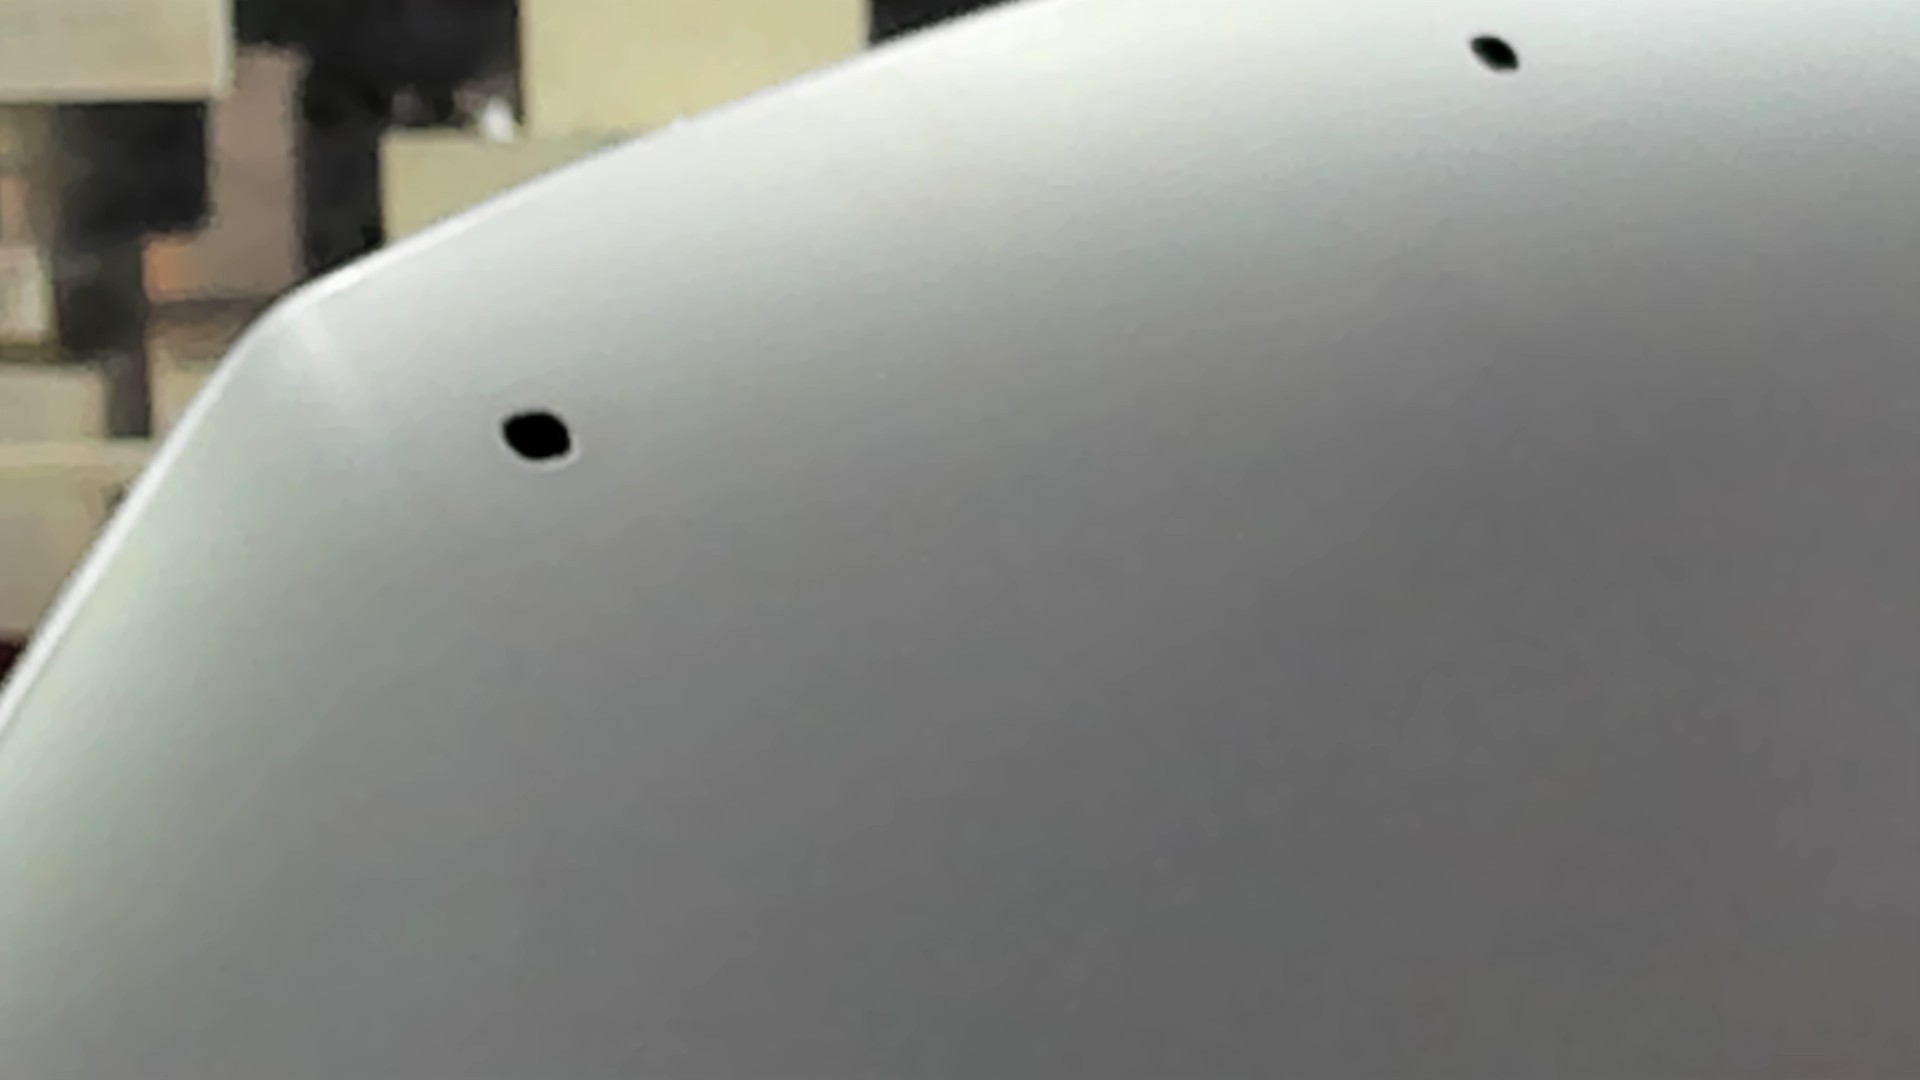amorfo: (492, 407, 582, 469), (1464, 29, 1527, 74)
